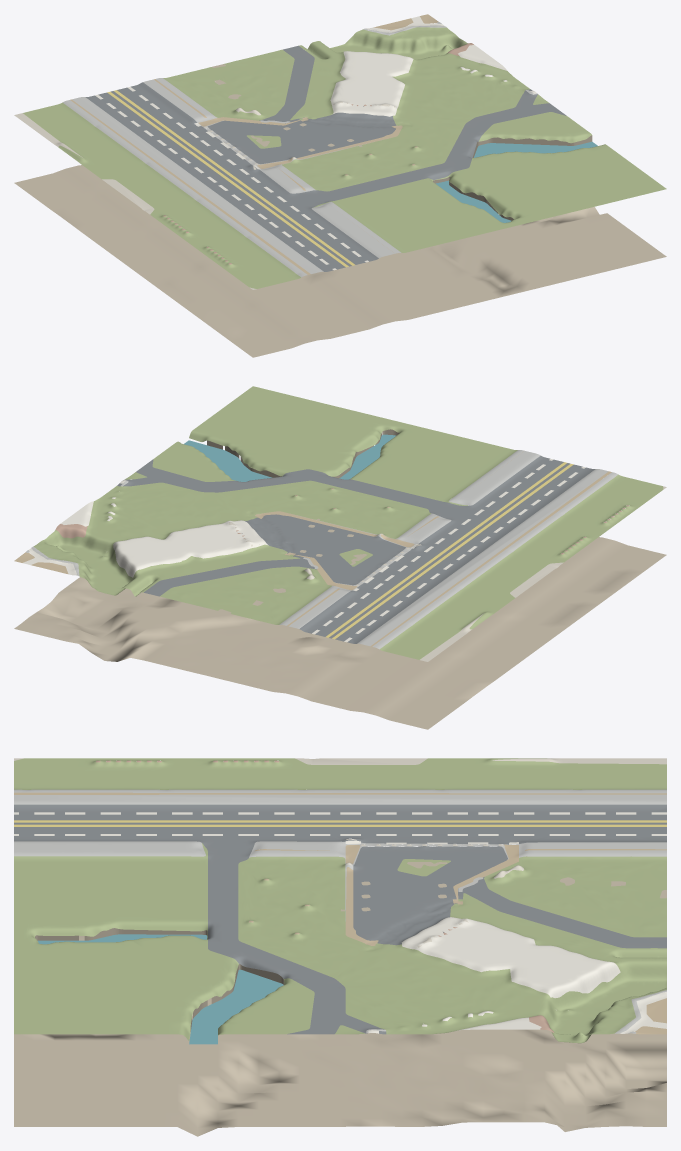
3 renders of one model, top to bottom at view 1: azimuth 30°, elevation 25°; view 2: azimuth 150°, elevation 25°; view 3: azimuth 270°, elevation 25°, orthographic. The views are drawn at different scales.
Visible parts, largest first — view 1: s_1_0__grass, s_1_0__soil, s_1_0__asphalt, s_1_0__stone_paving, s_1_0__white_marking, s_1_0__timber_deck, s_1_0__yellow_marking, s_1_0__water, s_1_0__paving, s_1_0__shore_bank; view 2: s_1_0__grass, s_1_0__soil, s_1_0__asphalt, s_1_0__stone_paving, s_1_0__white_marking, s_1_0__timber_deck, s_1_0__yellow_marking, s_1_0__water, s_1_0__paving; view 3: s_1_0__grass, s_1_0__soil, s_1_0__asphalt, s_1_0__stone_paving, s_1_0__white_marking, s_1_0__timber_deck, s_1_0__yellow_marking, s_1_0__water, s_1_0__paving, s_1_0__shore_bank.
Boxes of the visible parts, <box> form: s_1_0__grass: <box>23,27,666,288</box>; s_1_0__soil: <box>14,64,666,357</box>; s_1_0__asphalt: <box>85,45,566,271</box>; s_1_0__stone_paving: <box>62,22,537,277</box>; s_1_0__white_marking: <box>95,16,536,270</box>; s_1_0__timber_deck: <box>70,14,438,274</box>; s_1_0__yellow_marking: <box>107,90,354,267</box>; s_1_0__water: <box>436,141,597,222</box>; s_1_0__paving: <box>14,101,395,289</box>; s_1_0__shore_bank: <box>433,135,592,220</box>; s_1_0__grass: <box>33,386,663,659</box>; s_1_0__soil: <box>14,467,666,729</box>; s_1_0__asphalt: <box>117,455,595,643</box>; s_1_0__stone_paving: <box>26,450,618,649</box>; s_1_0__white_marking: <box>22,458,585,642</box>; s_1_0__timber_deck: <box>14,451,611,646</box>; s_1_0__yellow_marking: <box>326,462,573,639</box>; s_1_0__water: <box>184,434,395,481</box>; s_1_0__paving: <box>228,486,666,661</box>; s_1_0__grass: <box>14,758,666,1043</box>; s_1_0__soil: <box>14,856,666,1136</box>; s_1_0__asphalt: <box>14,804,666,1034</box>; s_1_0__stone_paving: <box>14,789,666,1033</box>; s_1_0__white_marking: <box>14,812,666,1033</box>; s_1_0__timber_deck: <box>14,792,666,1034</box>; s_1_0__yellow_marking: <box>14,820,666,826</box>; s_1_0__water: <box>38,934,283,1044</box>; s_1_0__paving: <box>14,758,666,947</box>; s_1_0__shore_bank: <box>35,928,284,1031</box>.
Size of the model in its own units: 128 by 24.64 by 128.
